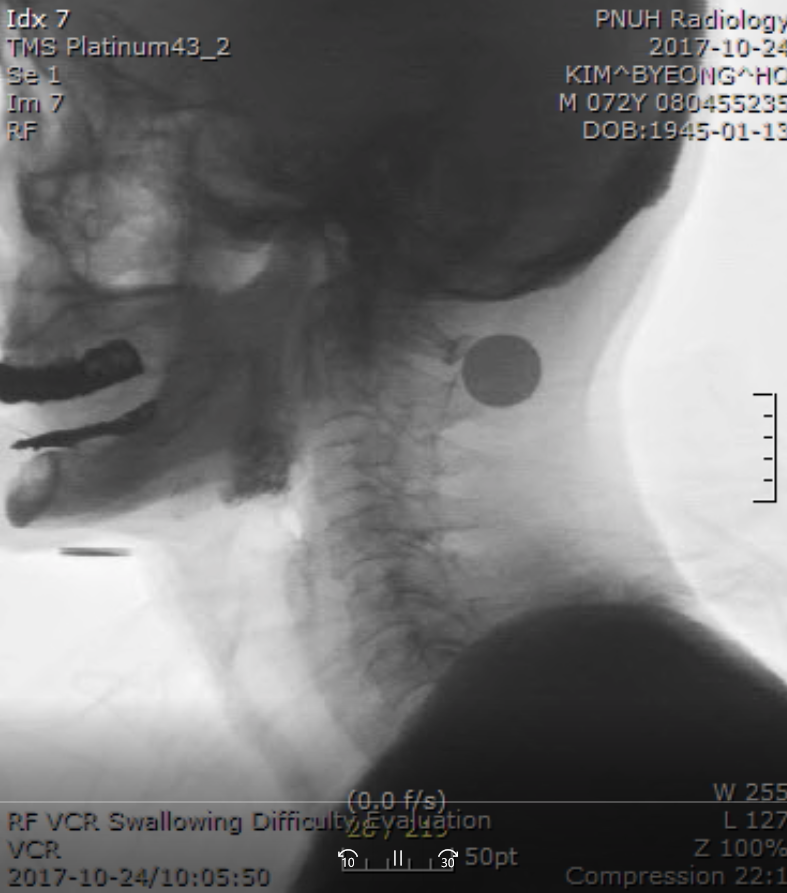food: (213, 367, 304, 514)
uros: (202, 427, 290, 514)
